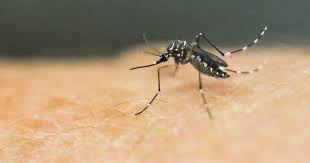mosquito: (120, 22, 276, 124)
